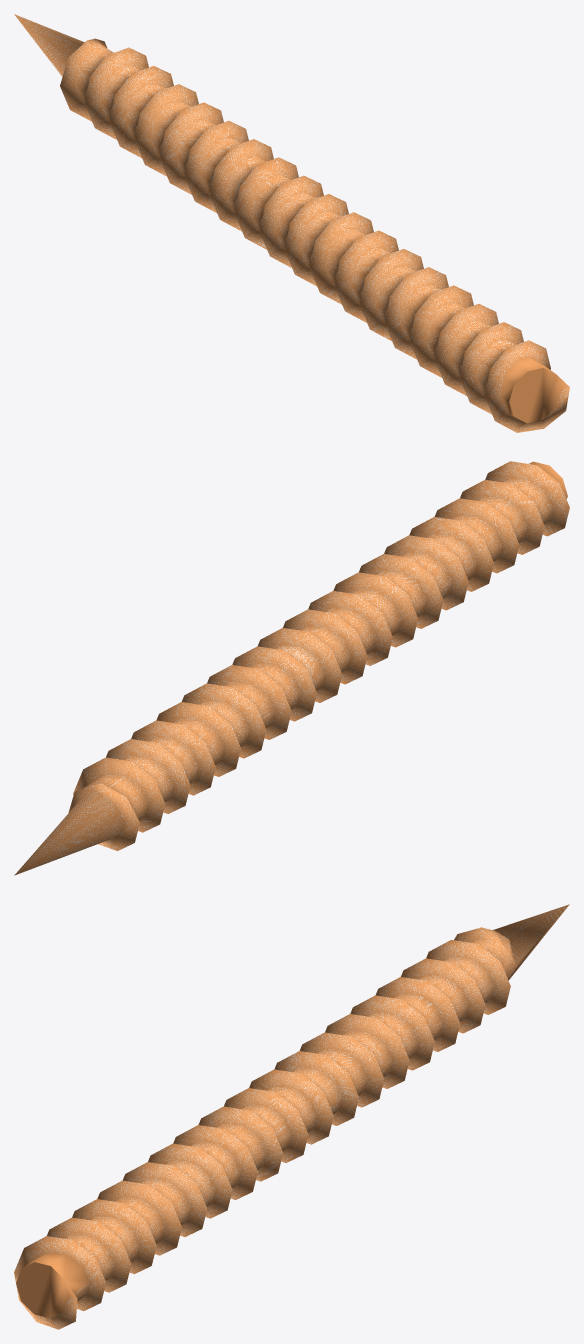
Rendered from original-39.obj.
3 renders of one model, top to bottom at view 1: azimuth 30°, elevation 25°; view 2: azimuth 150°, elevation 25°; view 3: azimuth 330°, elevation 25°, orthographic.
Parts seen in each view (by area): view 1: Group30/mesh43/mesh43-geometry#mesh43-geometry; view 2: Group30/mesh43/mesh43-geometry#mesh43-geometry; view 3: Group30/mesh43/mesh43-geometry#mesh43-geometry.
Boxes of the visible parts, <box> form: Group30/mesh43/mesh43-geometry#mesh43-geometry: <box>14,14,569,432</box>; Group30/mesh43/mesh43-geometry#mesh43-geometry: <box>14,461,569,875</box>; Group30/mesh43/mesh43-geometry#mesh43-geometry: <box>14,904,569,1329</box>.
Bounding box in the file's own units: 0.00164 × 0.00154 × 0.0188.
